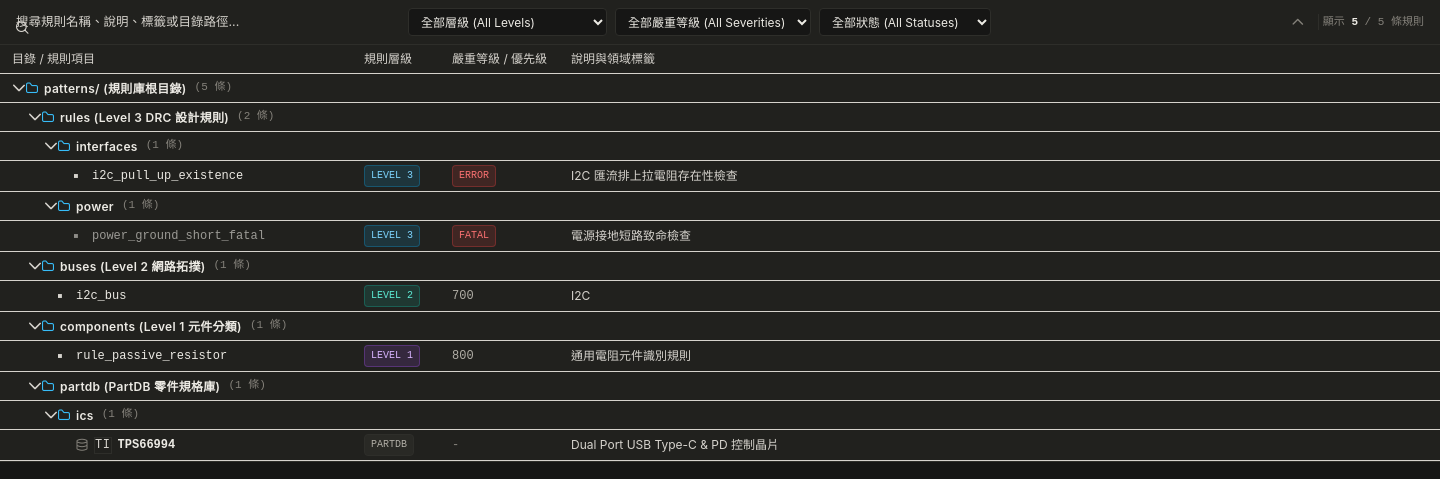
RuleDirectoryTree.vue › 搜尋優先級數值 (Priority) 能正確過濾對應之 Level 1 / Level 2 規則
搜尋 priority 800
Type "800" into the field with placeholder "搜尋規則名稱、說明、標籤或目錄路徑..." at (208, 22), box [16,14,400,30]
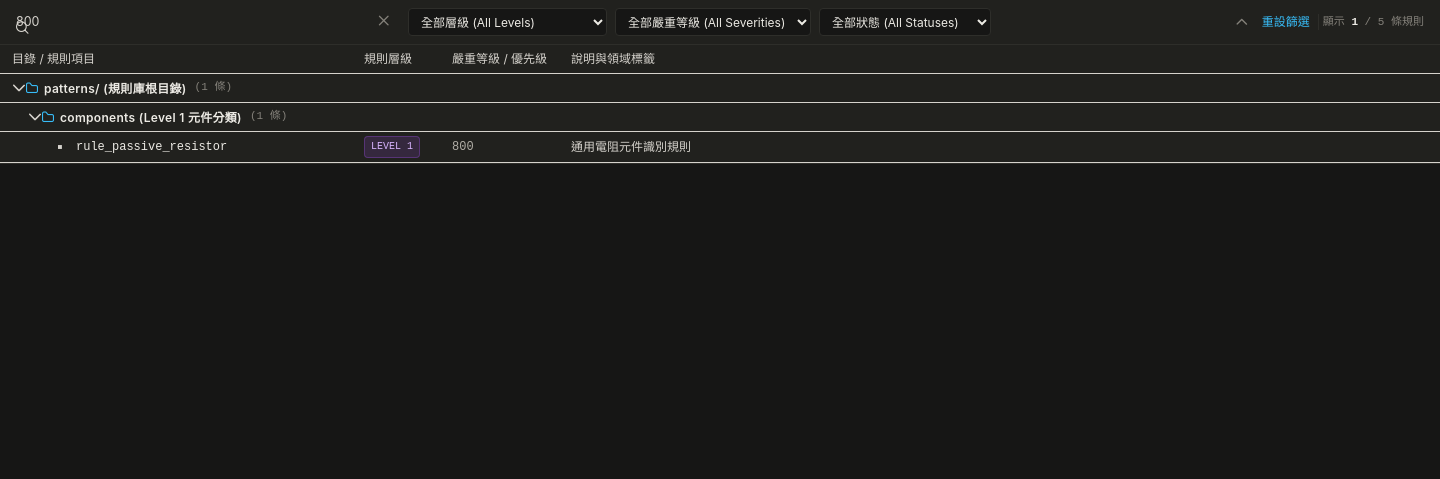
Expected: the text "rule_passive_resistor" is shown, [76,139,227,155]
Expected: the text "i2c_pull_up_existence" is gone
Expected: the text "i2c_bus" is gone
搜尋 priority 700
Replace the text in the field with "700" at (208, 22), box [16,14,400,30]
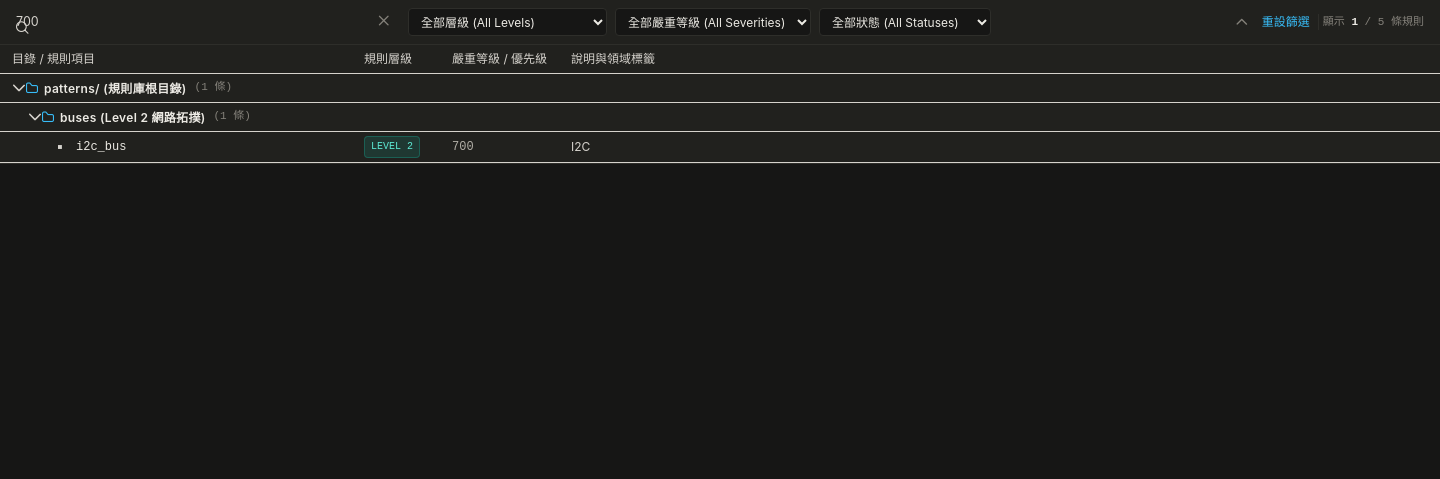
Expected: the text "i2c_bus" is shown, [76,139,126,155]
Expected: the text "700" is shown, [452,139,474,155]
Expected: the text "rule_passive_resistor" is gone
